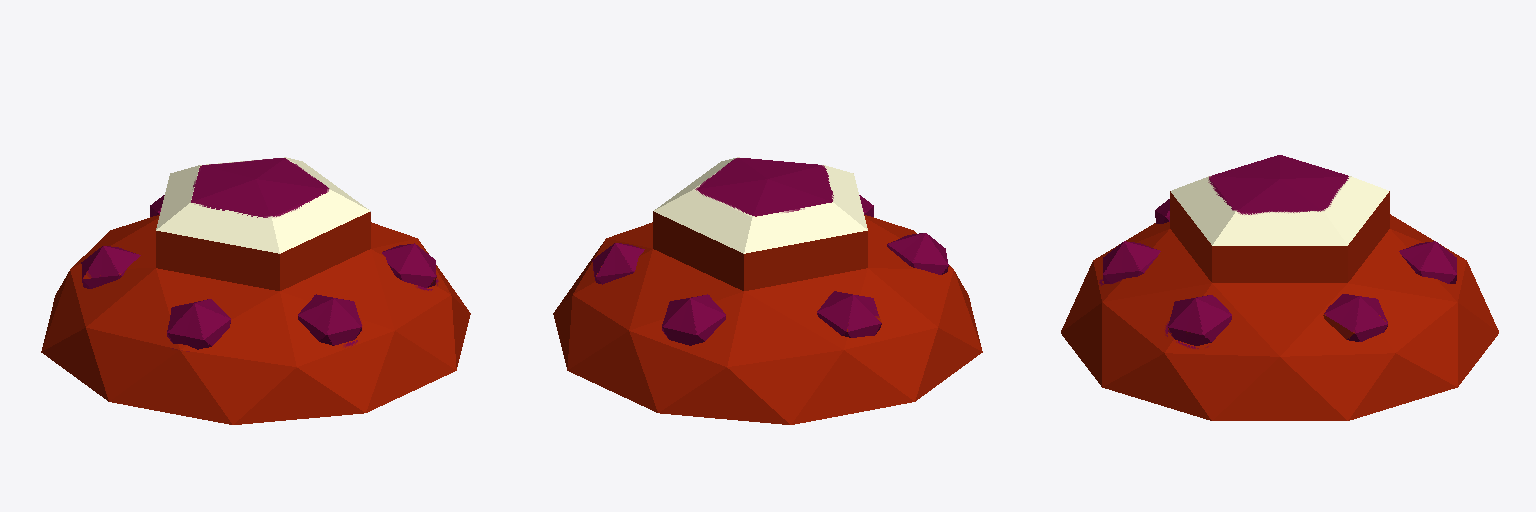
3 renders of one model, left to right at view 1: azimuth 30°, elevation 25°; view 2: azimuth 150°, elevation 25°; view 3: azimuth 270°, elevation 25°, orthographic.
Parts seen in each view (by area): view 1: up_Material.001; view 2: up_Material.001; view 3: up_Material.001.
Part boxes in pixels (x1,y1,x2,y2): up_Material.001: (41,157,470,424); up_Material.001: (553,157,982,424); up_Material.001: (1061,155,1498,420).
Size of the model in its own units: 3.48 by 1.42 by 3.66.
Materials: 1 (1 with a texture image).